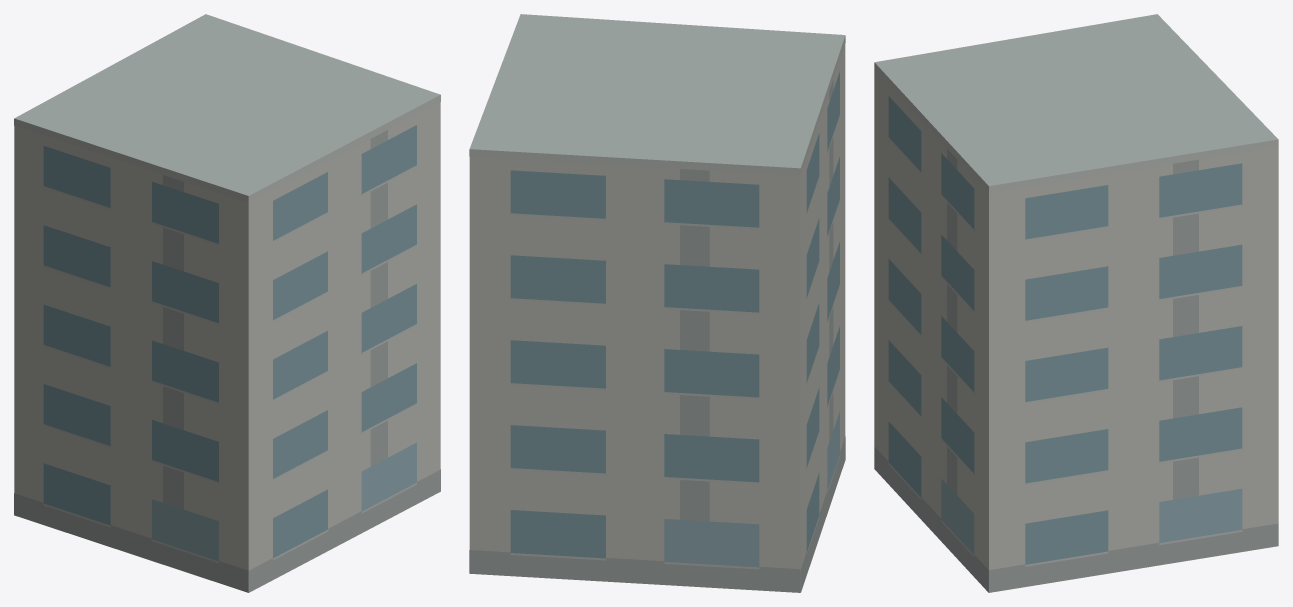
The model's file is survey-upis-32857348.glb.
3 views of the same model, side by side, from view 1: azimuth 30°, elevation 25°; view 2: azimuth 150°, elevation 25°; view 3: azimuth 270°, elevation 25° (orthographic). The views are drawn at different scales.
Parts seen in each view (by area): view 1: survey-upis-32857348.tmp; view 2: survey-upis-32857348.tmp; view 3: survey-upis-32857348.tmp.
Part boxes in pixels (x1,y1,x2,y2): survey-upis-32857348.tmp: (14,14,440,592); survey-upis-32857348.tmp: (469,14,845,592); survey-upis-32857348.tmp: (874,14,1278,592).
Size of the model in its own units: 12.22 by 13.45 by 12.12.
